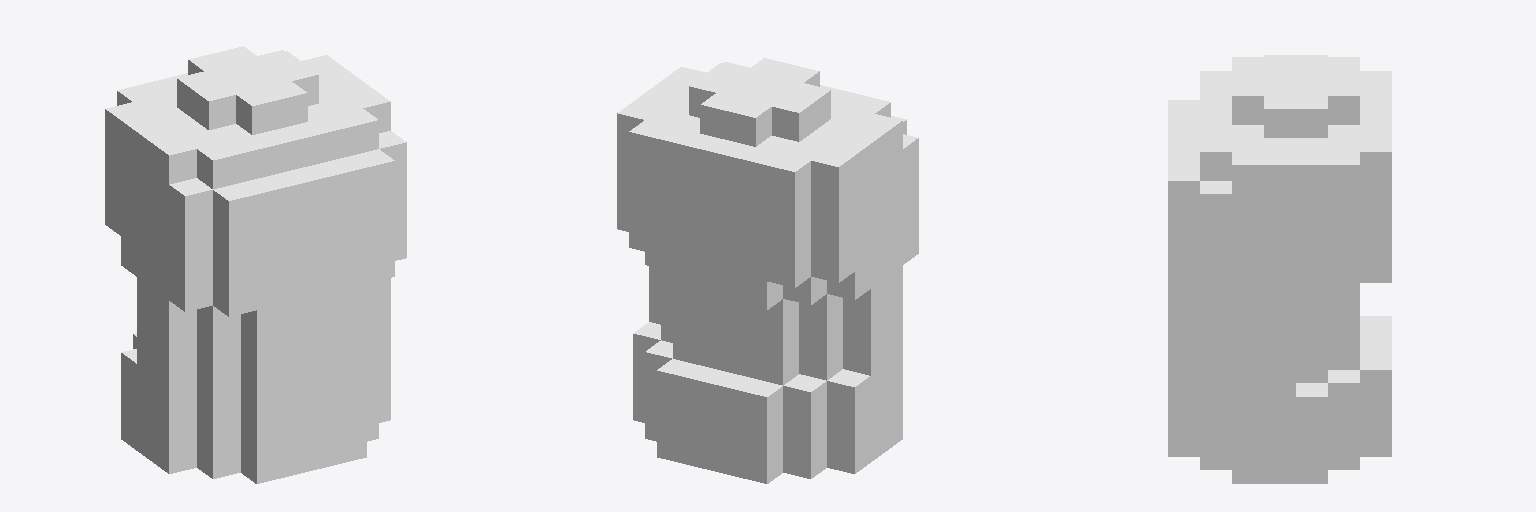
The model's file is char-50-chest_med_hvy_1_2_sh_ja_du.obj.
3 views of the same model, side by side, from view 1: azimuth 30°, elevation 25°; view 2: azimuth 150°, elevation 25°; view 3: azimuth 270°, elevation 25° (orthographic).
Visible parts, largest first — view 1: chest_med_hvy_1_2_sh_ja_du; view 2: chest_med_hvy_1_2_sh_ja_du; view 3: chest_med_hvy_1_2_sh_ja_du.
Part boxes in pixels (x1,y1,x2,y2): chest_med_hvy_1_2_sh_ja_du: (105, 46, 406, 483); chest_med_hvy_1_2_sh_ja_du: (617, 58, 918, 483); chest_med_hvy_1_2_sh_ja_du: (1168, 55, 1391, 483).
Bounding box in the file's own units: 0.8 × 1.2 × 0.7.